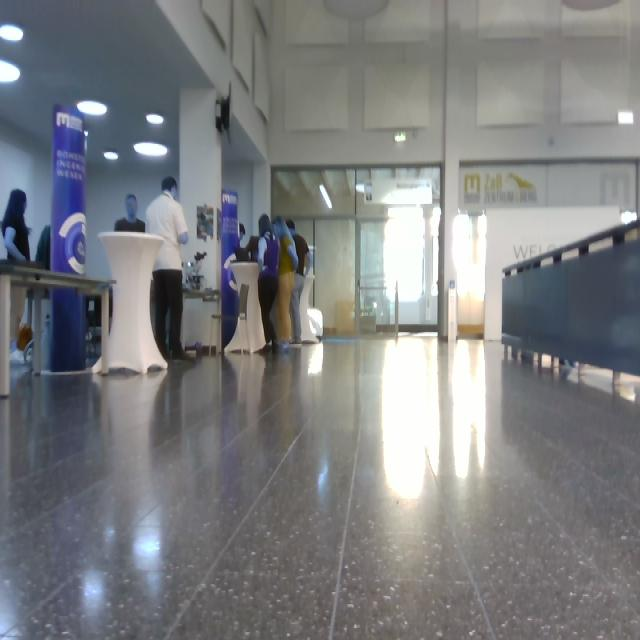door: (314, 217, 357, 336)
light bulb: (452, 213, 472, 270), (133, 141, 168, 157), (1, 58, 21, 84), (77, 100, 108, 116), (1, 24, 24, 42), (430, 206, 442, 237), (319, 184, 333, 209), (477, 212, 487, 237), (618, 110, 634, 125), (146, 113, 164, 125), (104, 150, 119, 161), (394, 132, 406, 142)
person: (146, 177, 195, 361), (272, 216, 300, 353), (256, 214, 280, 353), (285, 218, 310, 345), (114, 194, 146, 233)
pillar: (48, 104, 88, 373), (97, 230, 168, 376)
staircase: (501, 217, 640, 390)
tiled floor: (1, 332, 639, 638)
